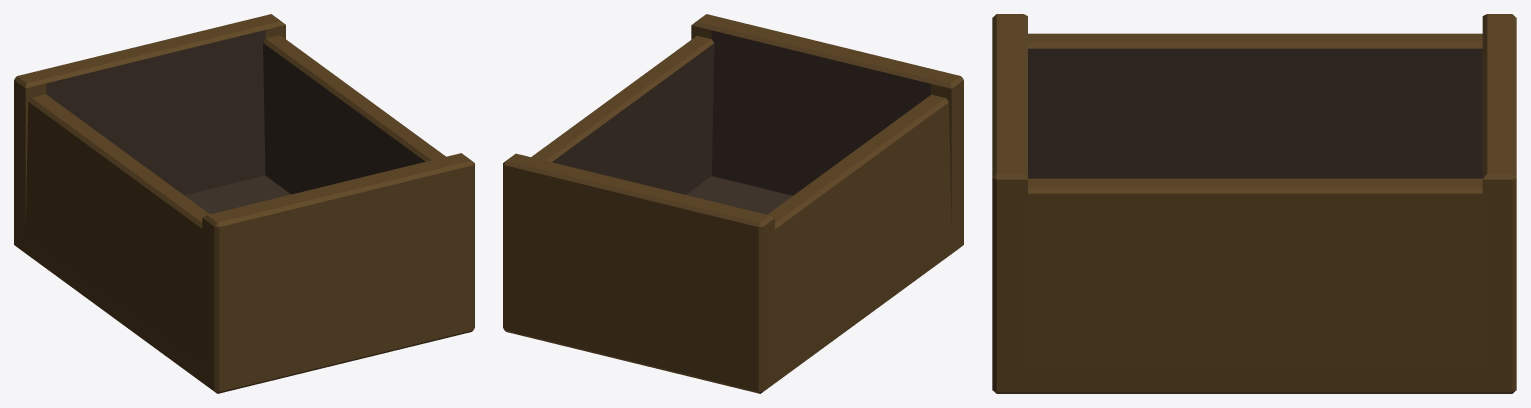
File: caja.fbx
3 renders of one model, left to right at view 1: azimuth 30°, elevation 25°; view 2: azimuth 150°, elevation 25°; view 3: azimuth 270°, elevation 25°, orthographic. The views are drawn at different scales.
Parts seen in each view (by area): view 1: c2; view 2: c2; view 3: c2.
Boxes of the visible parts, left/top/right/bottom form: c2: left=14, top=14, right=474, bottom=393; c2: left=503, top=14, right=963, bottom=393; c2: left=992, top=14, right=1516, bottom=393.
Size of the model in its own units: 42.74 by 26.85 by 57.96.
